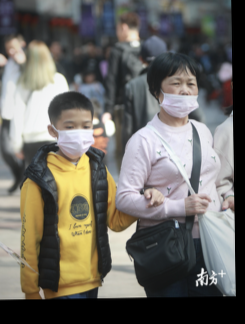with_mask: (156, 72, 199, 120), (55, 117, 94, 160)
